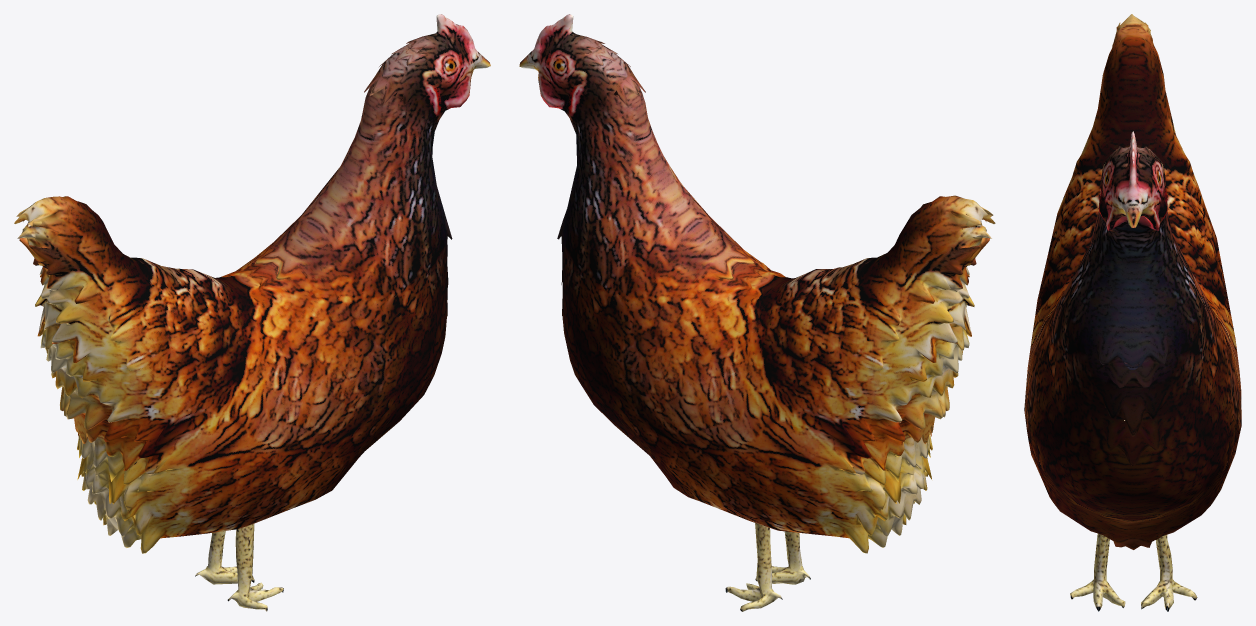
File: Hen.fbx
3 views of the same model, side by side, from view 1: azimuth 30°, elevation 25°; view 2: azimuth 150°, elevation 25°; view 3: azimuth 270°, elevation 25° (orthographic). The views are drawn at different scales.
Visible parts, largest first — view 1: Hen; view 2: Hen; view 3: Hen.
Part boxes in pixels (x1,y1,x2,y2): Hen: [14, 14, 490, 611]; Hen: [519, 14, 995, 611]; Hen: [1024, 14, 1241, 611].
Size of the model in its own units: 0.3965 by 0.4203 by 0.144.
Materials: 1 (1 with a texture image).
